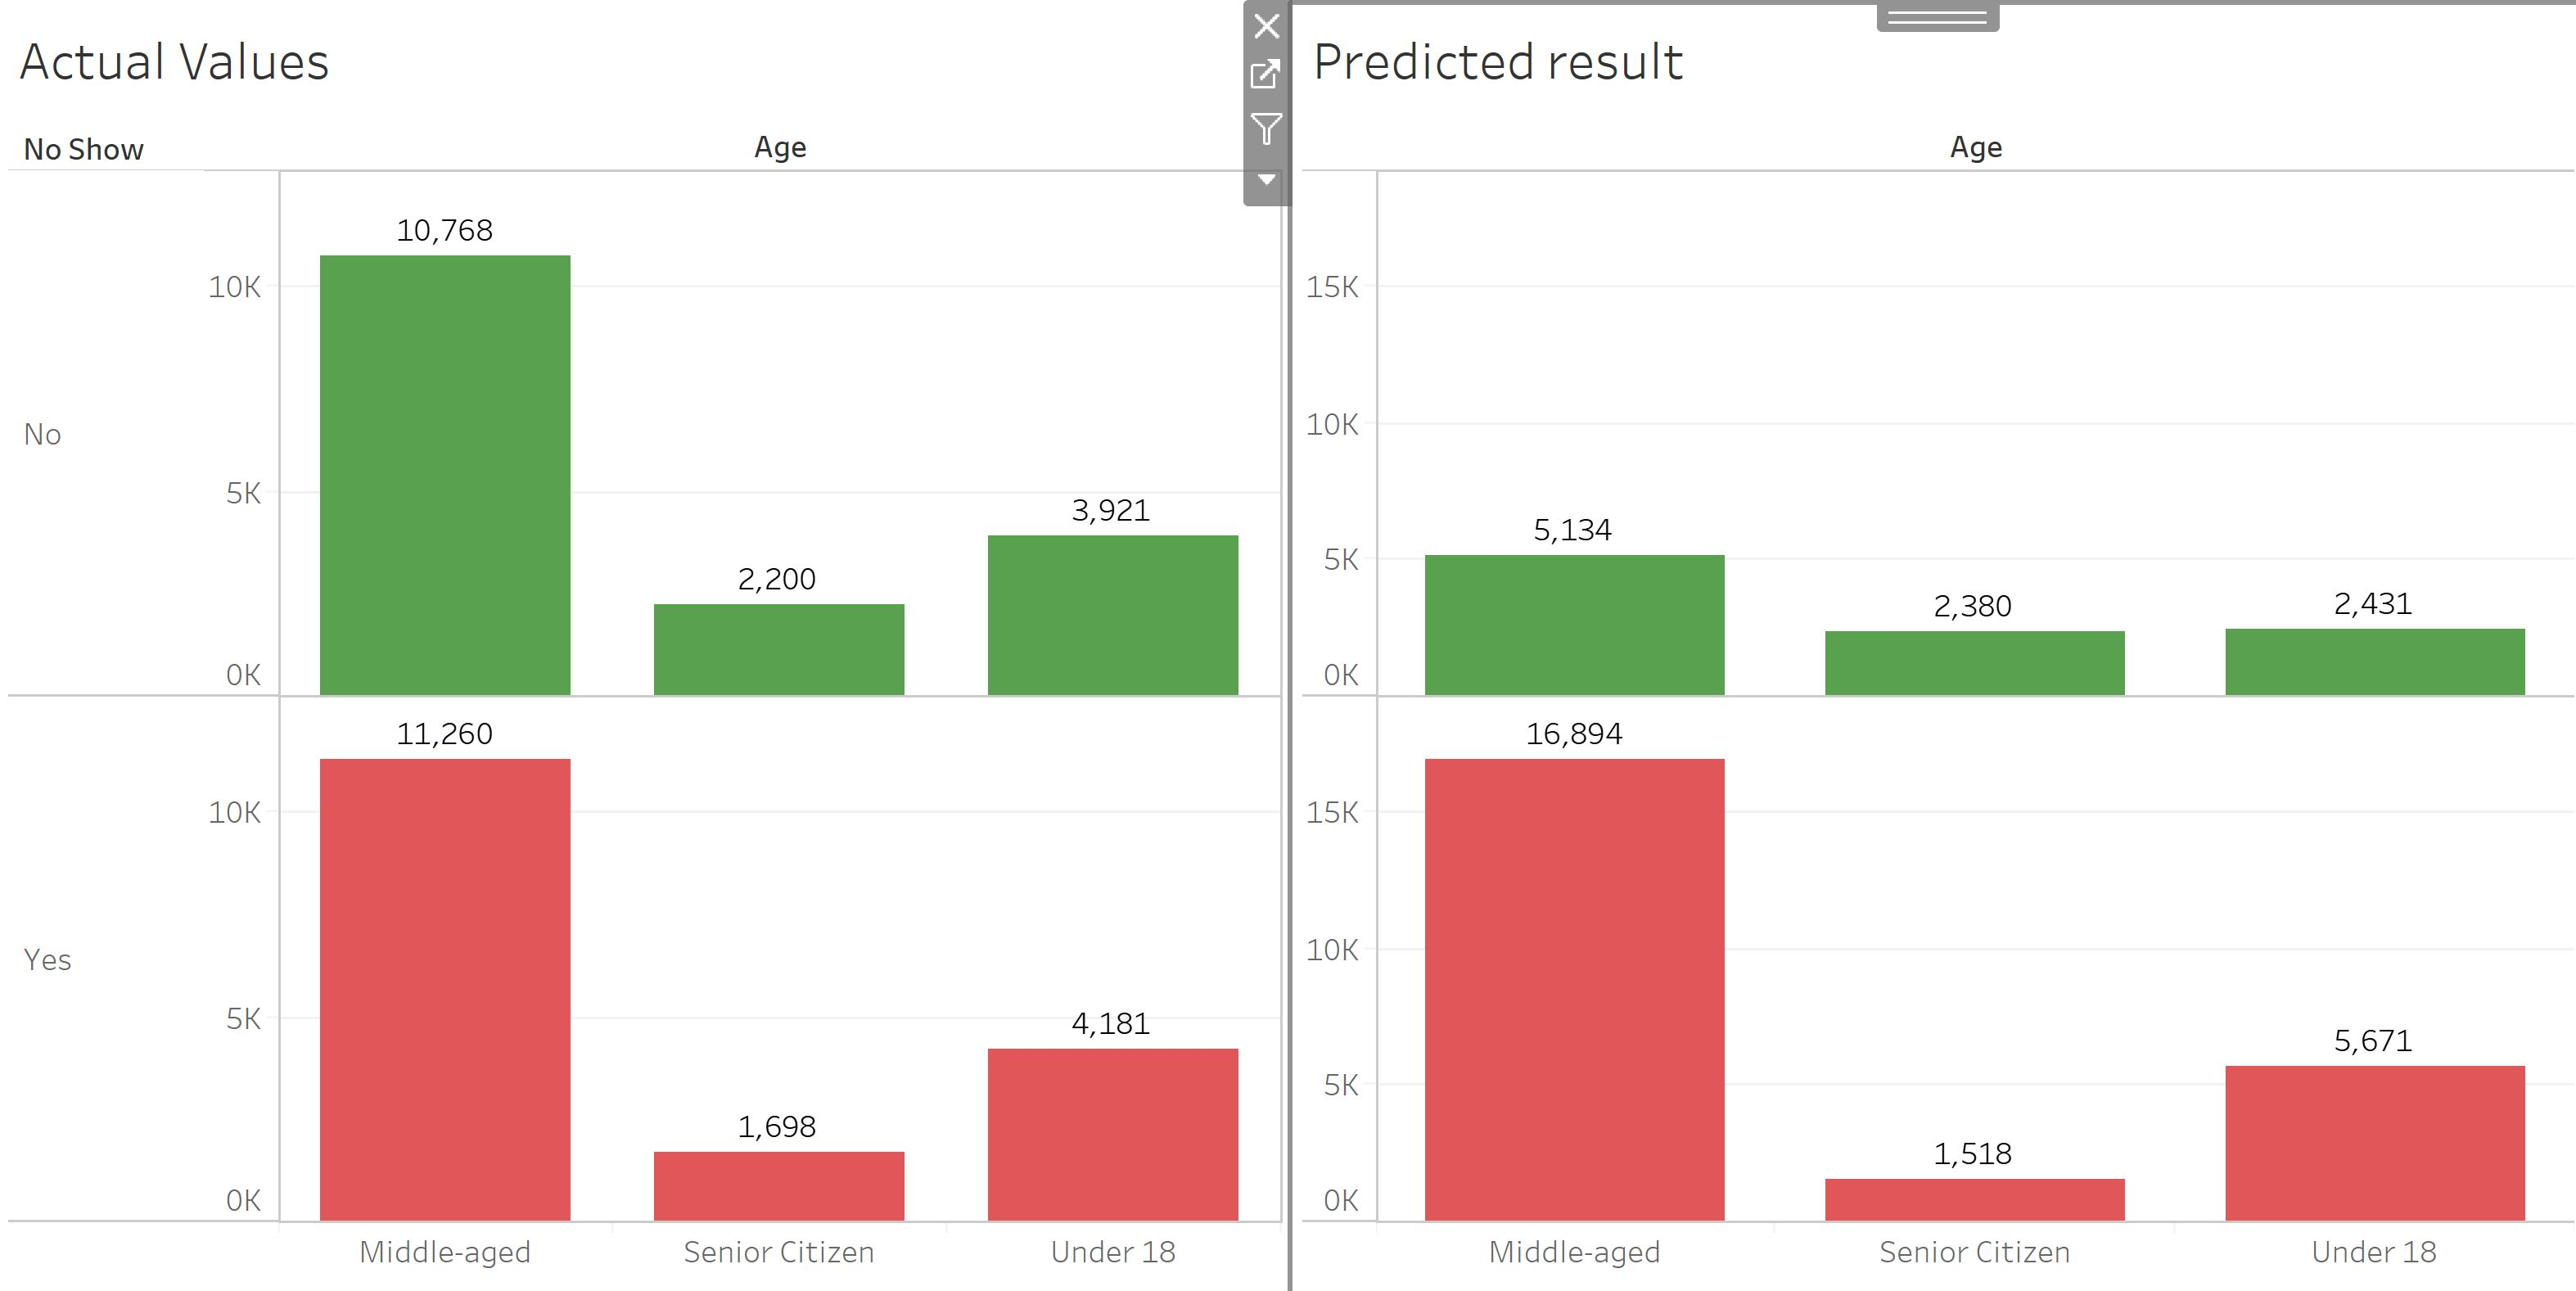

This screenshot's page, from the dashboard's own definition file:
{"tool":"tableau","page":{"name":"age dashoboard","canvas":[1000,1000],"units":"permille","ordinal":1},"visuals":[{"type":"worksheet","title":"age_nohow","mark":"Bar","rows":["no_show","n0_show"],"cols":["age"],"box":[6.9,13.5,493.1,973]},{"type":"worksheet","title":"age_pred","mark":"Automatic","rows":["predicted","pred"],"cols":["age"],"box":[500,13.5,493.1,973]}]}

Visuals, with their boxes on the dashboard's canvas, which has no fixed pixel size, in thousandths of its width and height (x1, y1, x2, y2). These are canvas units, not pixel positions in the 2576x1291 screenshot, which may show the page scaled, cropped or inside an application window:
"age_nohow" worksheet (Bar marks): x1=7 y1=14 x2=500 y2=986
"age_pred" worksheet: x1=500 y1=14 x2=993 y2=986
